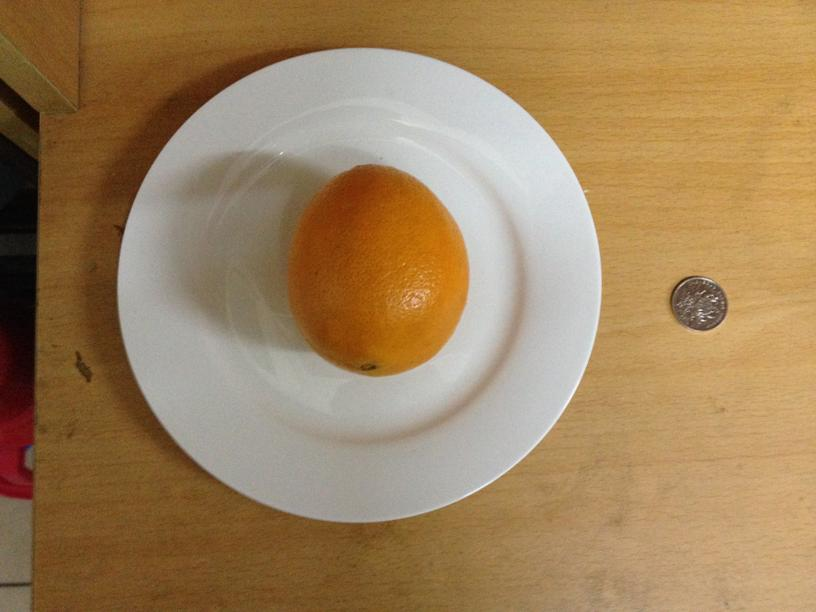coin: (670, 273, 727, 332)
orange: (289, 165, 465, 377)
